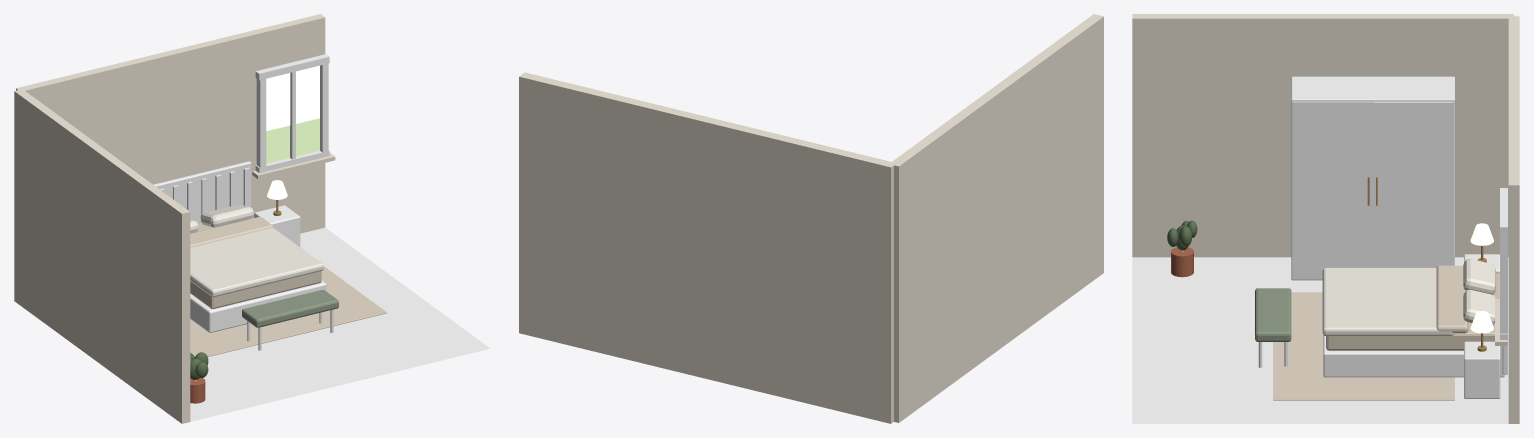
File: quiet-quarters.glb
3 renders of one model, left to right at view 1: azimuth 30°, elevation 25°; view 2: azimuth 150°, elevation 25°; view 3: azimuth 270°, elevation 25°, orthographic. The views are drawn at different scales.
Parts seen in each view (by area): view 1: Side wall, Back wall, Floor, Duvet, Bedroom rug, Window sky, Headboard rail, Bed frame, Bench cushion, Mattress, Window outside, Duvet fold (+8 smaller); view 2: Back wall, Side wall; view 3: Side wall, Floor, Wardrobe door A, Wardrobe door B, Duvet, Bedroom rug, Wardrobe, Back wall, Bed frame, Mattress, Nightstand 1, Bench cushion (+7 smaller).
Boxes of the visible parts, x1=… form: Side wall: x1=14, y1=90, x2=190, y2=423; Back wall: x1=16, y1=14, x2=325, y2=233; Floor: x1=190, y1=227, x2=490, y2=421; Duvet: x1=190, y1=228, x2=323, y2=297; Bedroom rug: x1=190, y1=266, x2=386, y2=356; Window sky: x1=266, y1=65, x2=319, y2=131; Headboard rail: x1=153, y1=161, x2=251, y2=222; Bed frame: x1=190, y1=280, x2=326, y2=332; Bench cushion: x1=242, y1=290, x2=338, y2=327; Mattress: x1=190, y1=218, x2=321, y2=308; Window outside: x1=266, y1=118, x2=319, y2=163; Duvet fold: x1=190, y1=216, x2=273, y2=247; Back wall: x1=519, y1=72, x2=896, y2=423; Side wall: x1=889, y1=14, x2=1103, y2=422; Side wall: x1=1132, y1=14, x2=1513, y2=257; Floor: x1=1132, y1=257, x2=1508, y2=423; Wardrobe door A: x1=1292, y1=101, x2=1372, y2=279; Wardrobe door B: x1=1373, y1=101, x2=1453, y2=267; Duvet: x1=1322, y1=267, x2=1453, y2=335; Bedroom rug: x1=1273, y1=292, x2=1454, y2=400; Wardrobe: x1=1291, y1=76, x2=1454, y2=280; Back wall: x1=1508, y1=16, x2=1519, y2=423; Bed frame: x1=1323, y1=335, x2=1504, y2=377; Mattress: x1=1326, y1=273, x2=1499, y2=350; Nightstand 1: x1=1464, y1=341, x2=1500, y2=398; Bench cushion: x1=1255, y1=288, x2=1291, y2=341.
Size of the model in its own units: 4.52 by 2.9 by 4.26.
